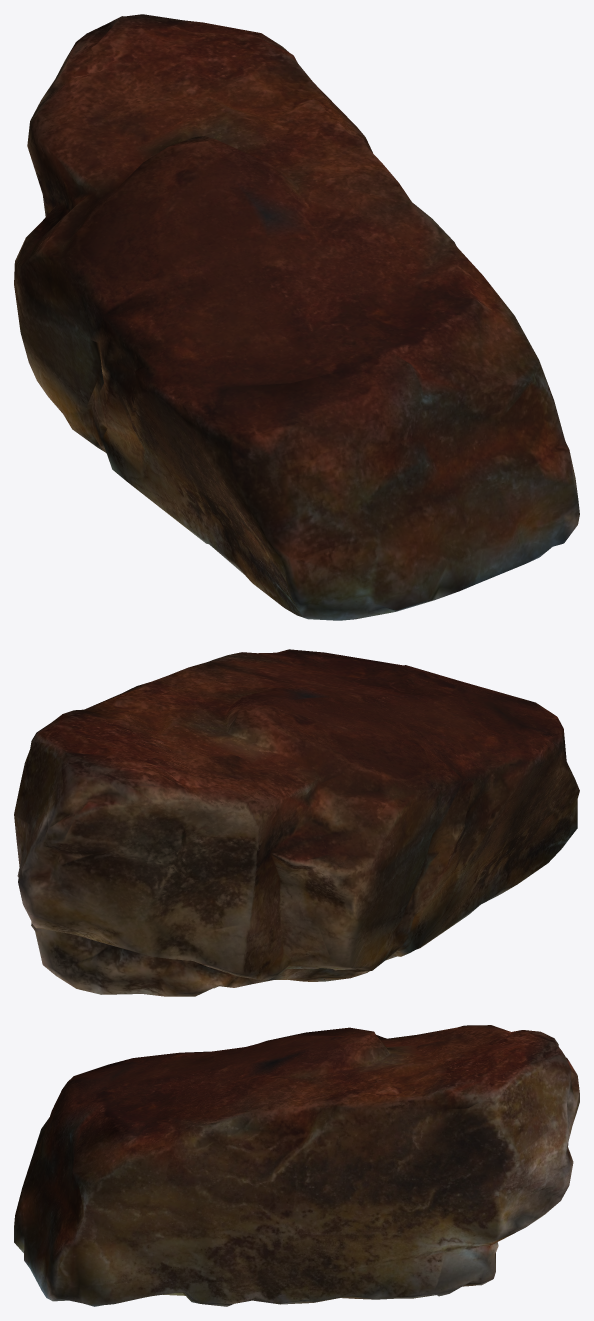
Rendered from rock_07.glb.
3 views of the same model, one above another, from view 1: azimuth 30°, elevation 25°; view 2: azimuth 150°, elevation 25°; view 3: azimuth 270°, elevation 25° (orthographic). The views are drawn at different scales.
Visible parts, largest first — view 1: rock_07; view 2: rock_07; view 3: rock_07.
Part boxes in pixels (box(x1,y1,x2,y2)): rock_07: box(14, 14, 579, 620); rock_07: box(14, 649, 579, 996); rock_07: box(14, 1025, 579, 1306).
Bounding box in the file's own units: 0.1675 × 0.1434 × 0.3195.
Materials: 1 (1 with a texture image).
